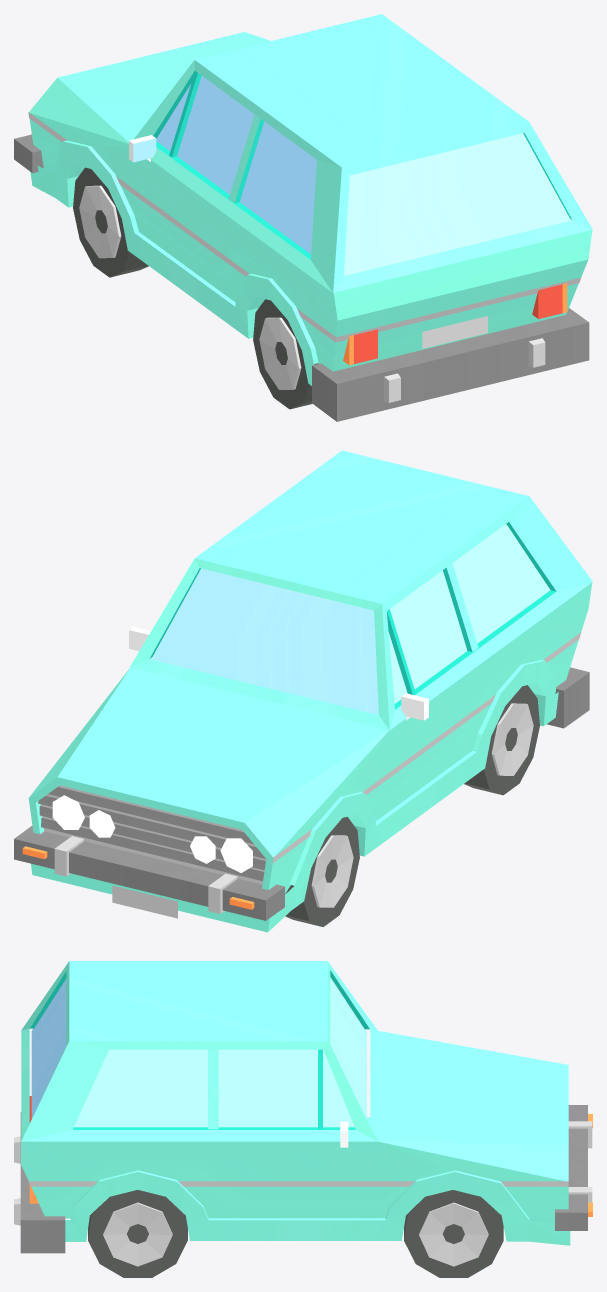
The model's file is transport_old.004.glb.
3 renders of one model, top to bottom at view 1: azimuth 30°, elevation 25°; view 2: azimuth 150°, elevation 25°; view 3: azimuth 270°, elevation 25°, orthographic. The views are drawn at different scales.
Parts seen in each view (by area): view 1: transport_old.004(Clone); view 2: transport_old.004(Clone); view 3: transport_old.004(Clone).
Boxes of the visible parts, x1,y1,x2,y2 form: transport_old.004(Clone): (14,14,592,421); transport_old.004(Clone): (14,450,592,932); transport_old.004(Clone): (14,961,592,1277).
Size of the model in its own units: 1.48 by 1.24 by 2.86.
1 material, 1 textured.
